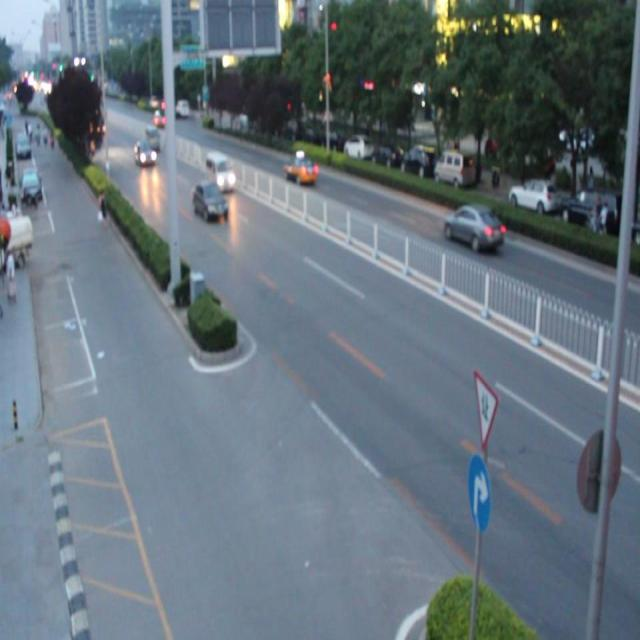car: (443, 204, 502, 254), (191, 180, 227, 221), (282, 154, 316, 186), (134, 140, 156, 166)
truck: (206, 150, 233, 190)
